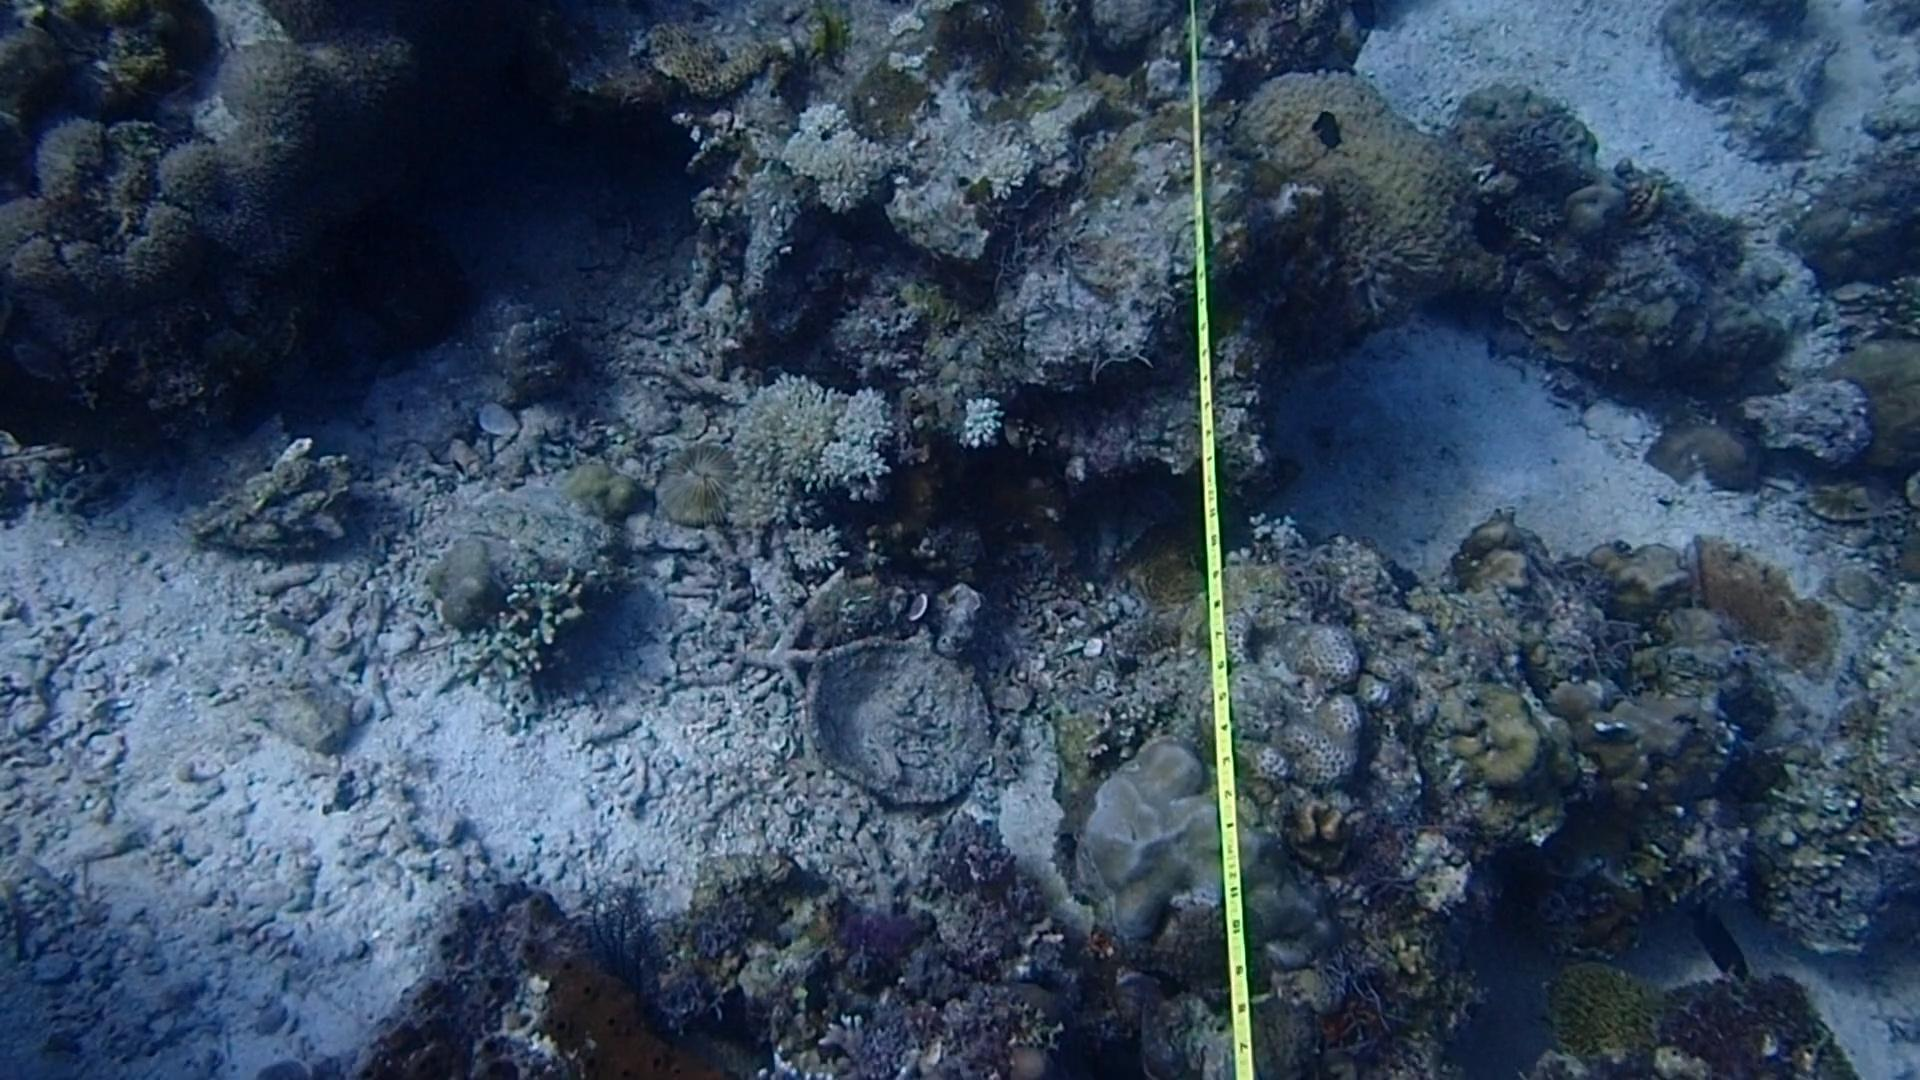Dark Fish: (1672, 890, 1756, 990), (1461, 189, 1528, 264), (1300, 98, 1352, 167)
